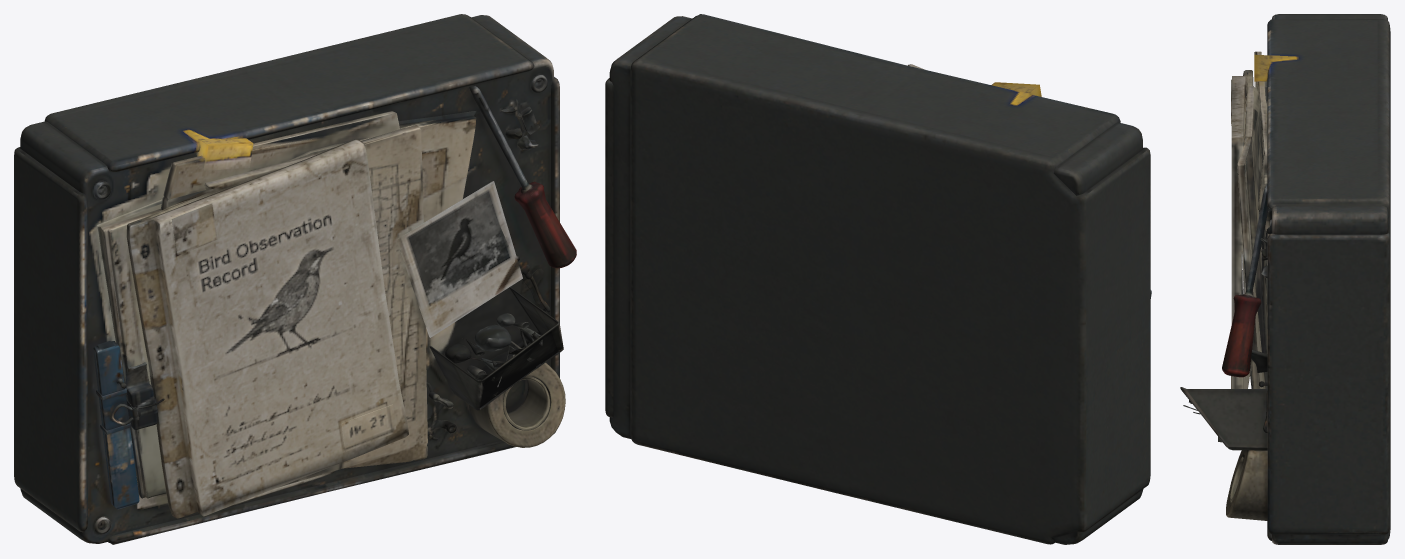
The model's file is vintage_field_notebook_3d_model.fbx.
The picture shows the model from 3 angles, left to right: view 1: azimuth 30°, elevation 25°; view 2: azimuth 150°, elevation 25°; view 3: azimuth 270°, elevation 25°; orthographic projection. The views are drawn at different scales.
Parts seen in each view (by area): view 1: d36ff517_9d77_4204_8a97_45460c05efa3; view 2: d36ff517_9d77_4204_8a97_45460c05efa3; view 3: d36ff517_9d77_4204_8a97_45460c05efa3.
Part boxes in pixels (x1,y1,x2,y2): d36ff517_9d77_4204_8a97_45460c05efa3: [14, 14, 576, 544]; d36ff517_9d77_4204_8a97_45460c05efa3: [605, 14, 1151, 544]; d36ff517_9d77_4204_8a97_45460c05efa3: [1180, 14, 1390, 544].
Size of the model in its own units: 0.9995 by 0.7661 by 0.4253.
1 material, 1 textured.
